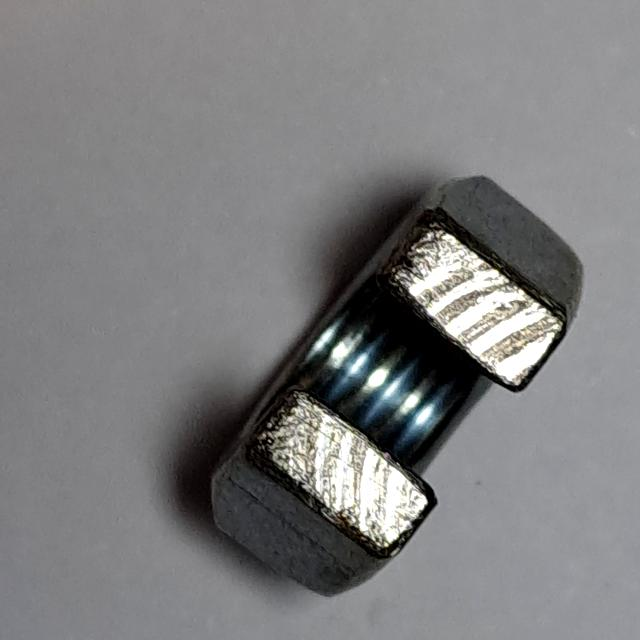Side-Fracture: (203, 160, 594, 615)
